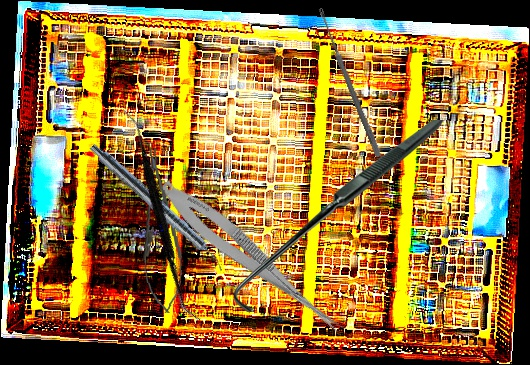Handpiece: (85, 140, 231, 275)
Hook Surgical: (234, 120, 444, 312)
Micro Scissor: (152, 173, 356, 343)
Needle Holder: (132, 146, 189, 315)
Spatula Surgical: (51, 107, 273, 323)
Surgical Spoon: (316, 7, 383, 158)
